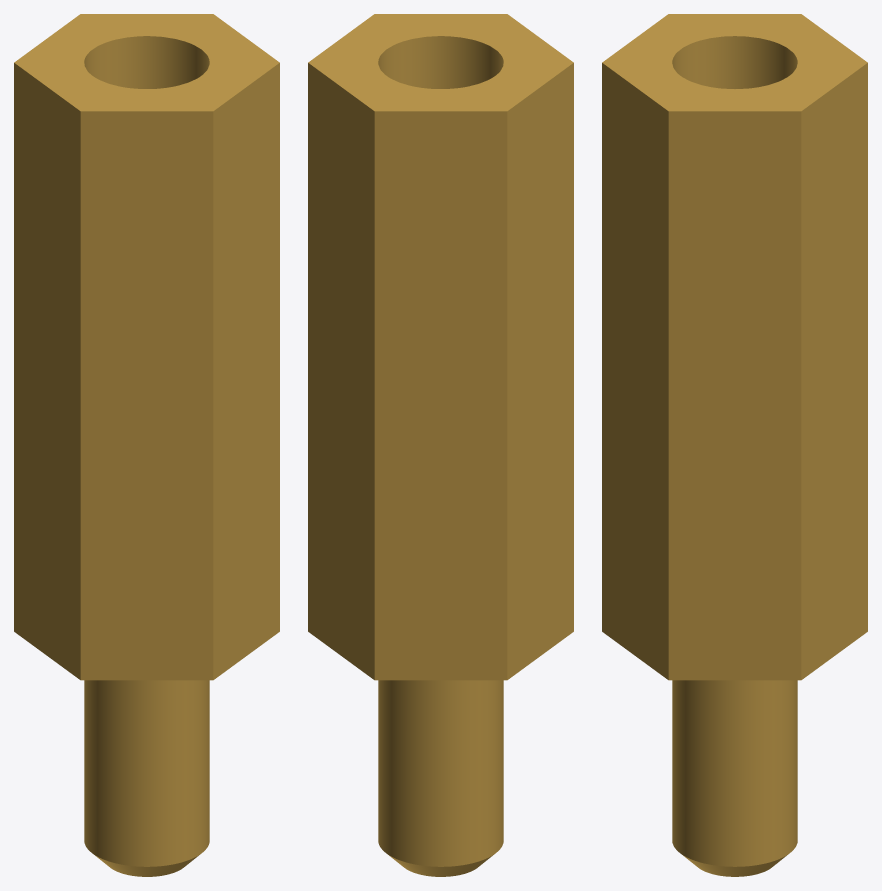
The model's file is hex_standoff_m3_15mm_male_female.glb.
The picture shows the model from 3 angles, left to right: view 1: azimuth 30°, elevation 25°; view 2: azimuth 150°, elevation 25°; view 3: azimuth 270°, elevation 25°; orthographic projection.
Parts seen in each view (by area): view 1: standoff; view 2: standoff; view 3: standoff.
Boxes of the visible parts, x1,y1,x2,y2 form: standoff: (14,14,279,876); standoff: (308,14,573,876); standoff: (602,14,867,876).
Size of the model in its own units: 0.0055 by 0.021 by 0.00635.
